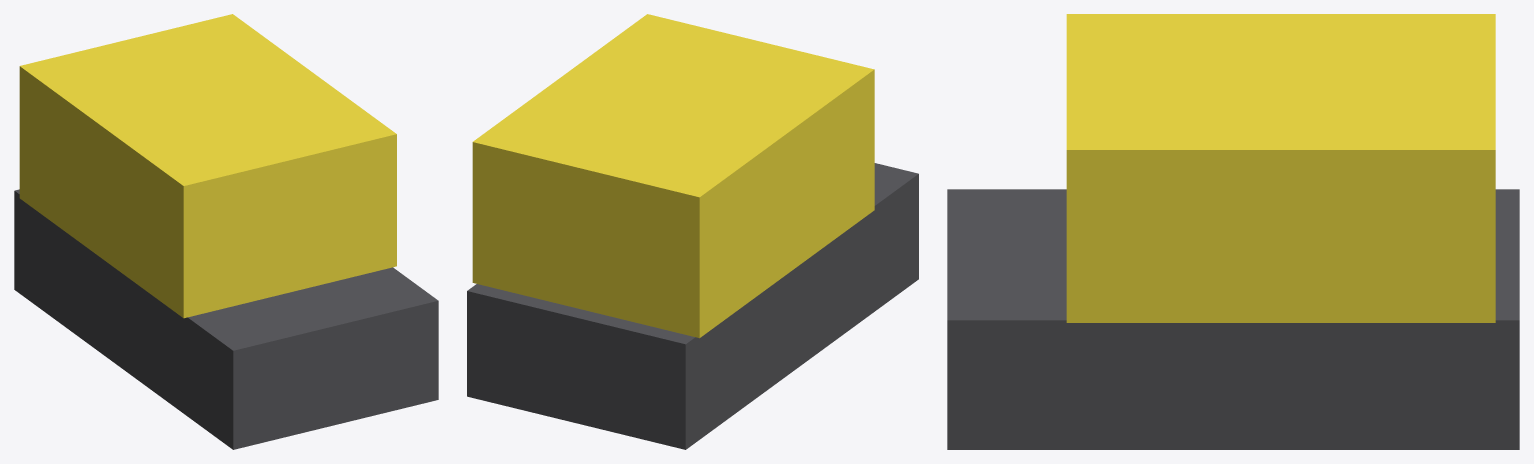
File: chennai_auto.glb
The picture shows the model from 3 angles, left to right: view 1: azimuth 30°, elevation 25°; view 2: azimuth 150°, elevation 25°; view 3: azimuth 270°, elevation 25°; orthographic projection. The views are drawn at different scales.
Parts seen in each view (by area): view 1: CanvasTop_Node, LowerChassis_Node; view 2: CanvasTop_Node, LowerChassis_Node; view 3: CanvasTop_Node, LowerChassis_Node.
Part boxes in pixels (box(x1,y1,x2,y2)): CanvasTop_Node: box(19, 14, 396, 318); LowerChassis_Node: box(14, 189, 438, 449); CanvasTop_Node: box(472, 14, 874, 338); LowerChassis_Node: box(467, 163, 918, 449); CanvasTop_Node: box(1066, 14, 1495, 322); LowerChassis_Node: box(947, 189, 1519, 449).
Size of the model in its own units: 1.35 by 1.53 by 2.4.
